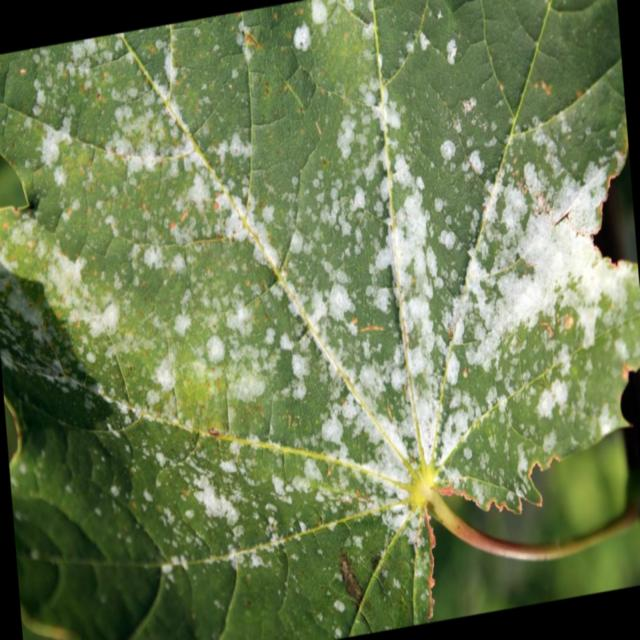Powdery Mildew: (1, 1, 638, 636)
